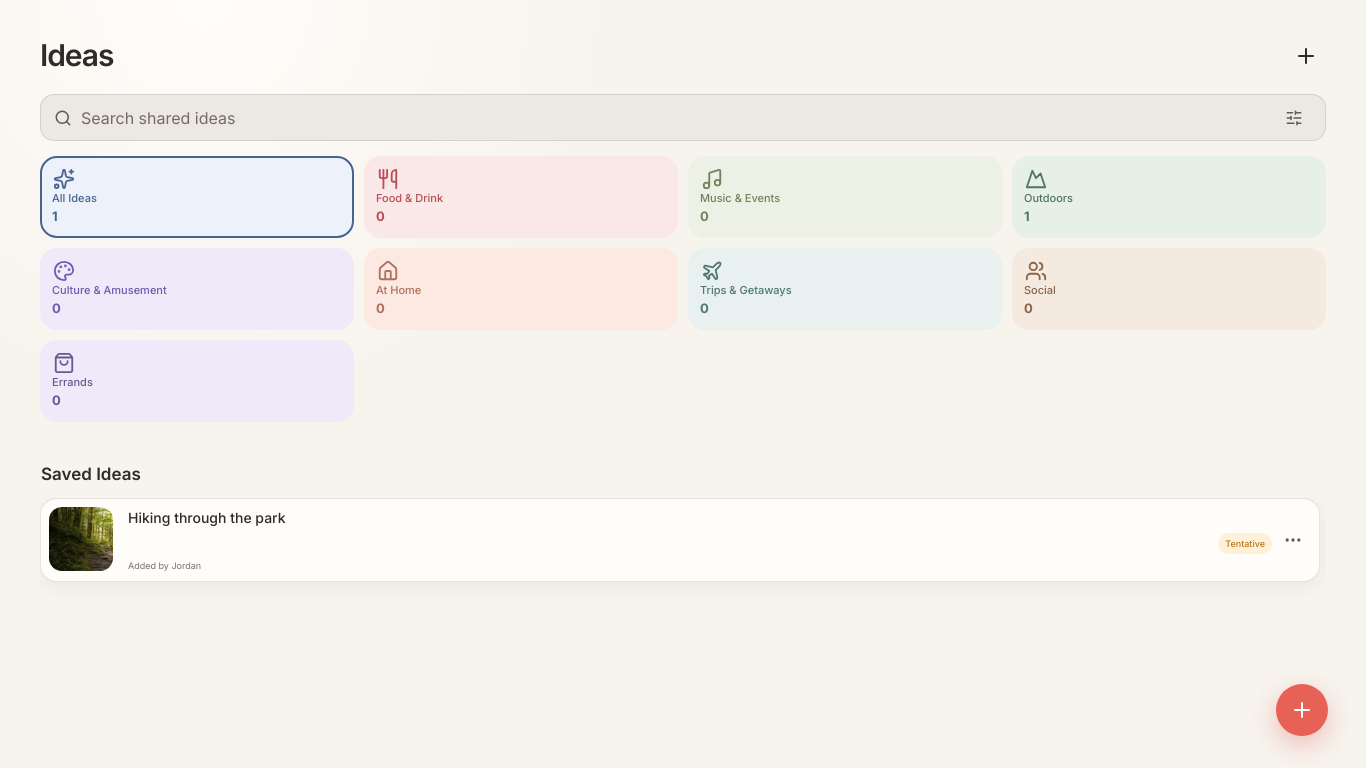
Test: Saved Idea cover rendering › opens a separate prefilled duplicate from the Idea menu
The width and height of the screenshot is (1366, 768).
Step 1. Click the button named "More actions for Hiking through the park" → (1293, 540), box 1275,518 -> 1311,562
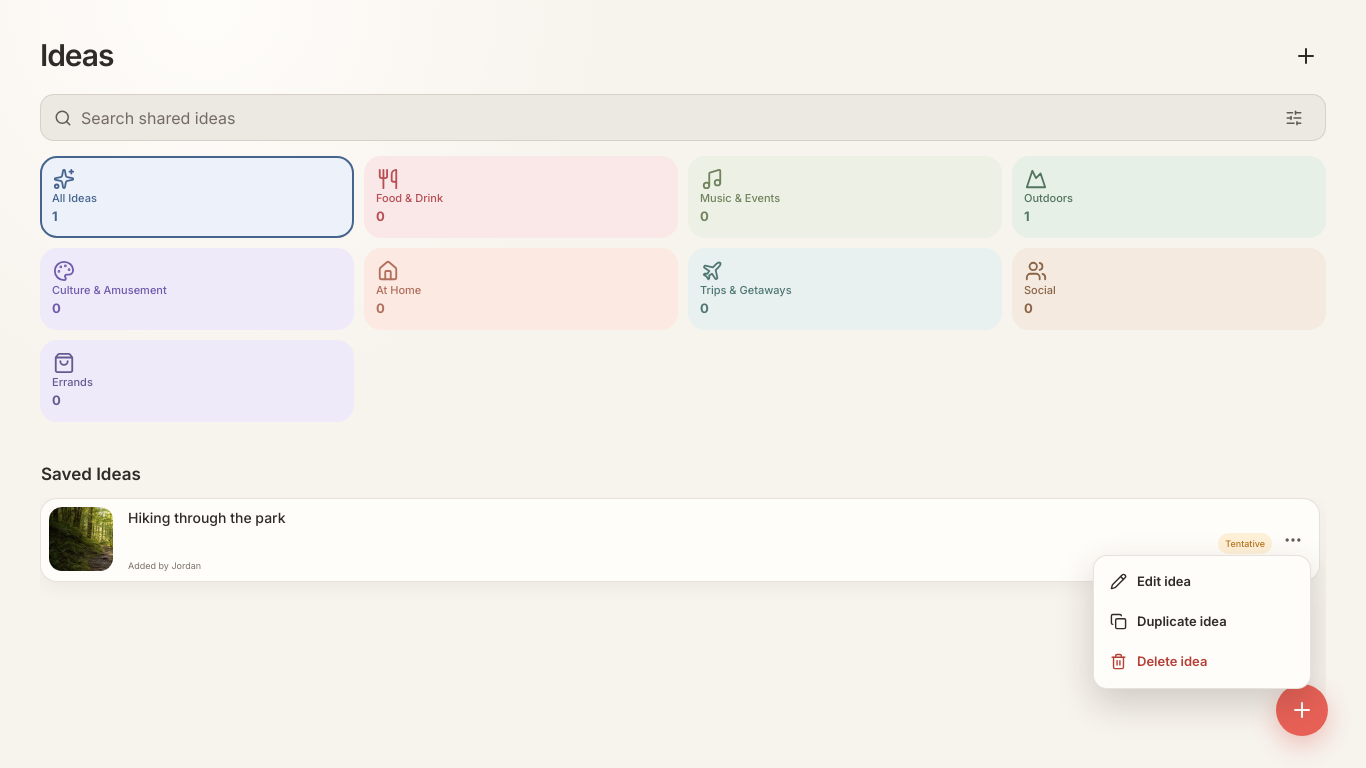
Step 2. Click the menu item "Duplicate idea" → (1202, 622), box 1100,602 -> 1304,642
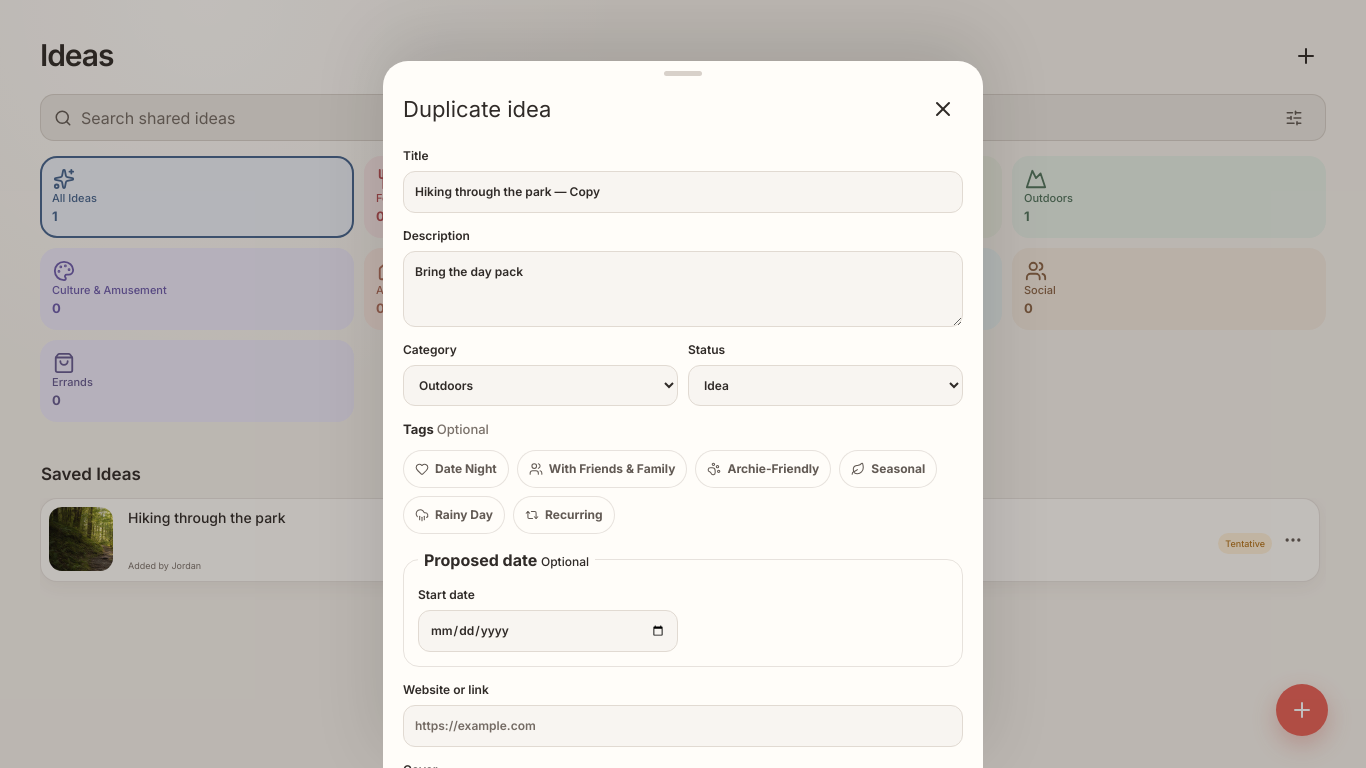
Check: the dialog "Duplicate idea" is shown, box 383,62 -> 983,767
Check: the field labelled "Title" holds "Hiking through the park — Copy", box 403,172 -> 963,214
Check: the dropdown labelled "Status" shows "Idea", box 688,366 -> 963,406
